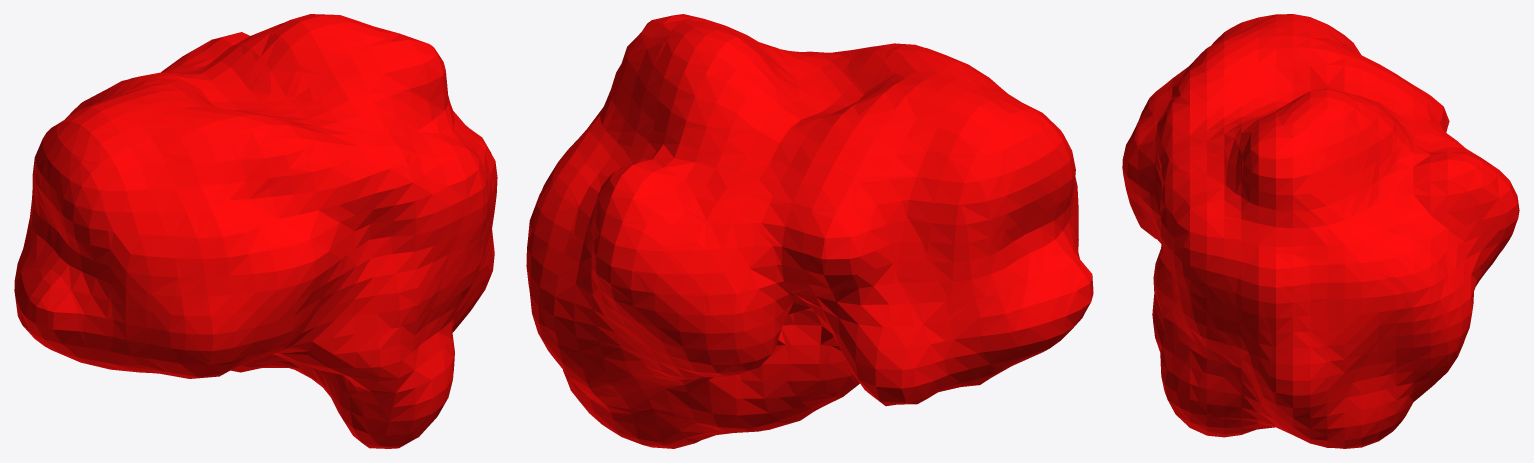
Rendered from fpr_coarse.dae.
3 views of the same model, side by side, from view 1: azimuth 30°, elevation 25°; view 2: azimuth 150°, elevation 25°; view 3: azimuth 270°, elevation 25° (orthographic). The views are drawn at different scales.
Visible parts, largest first — view 1: fpr; view 2: fpr; view 3: fpr.
Part boxes in pixels (x1,y1,x2,y2): fpr: (14, 14, 497, 448); fpr: (526, 14, 1093, 448); fpr: (1122, 14, 1519, 448).
Bounding box in the file's own units: 57.6 × 44.39 × 47.64.
